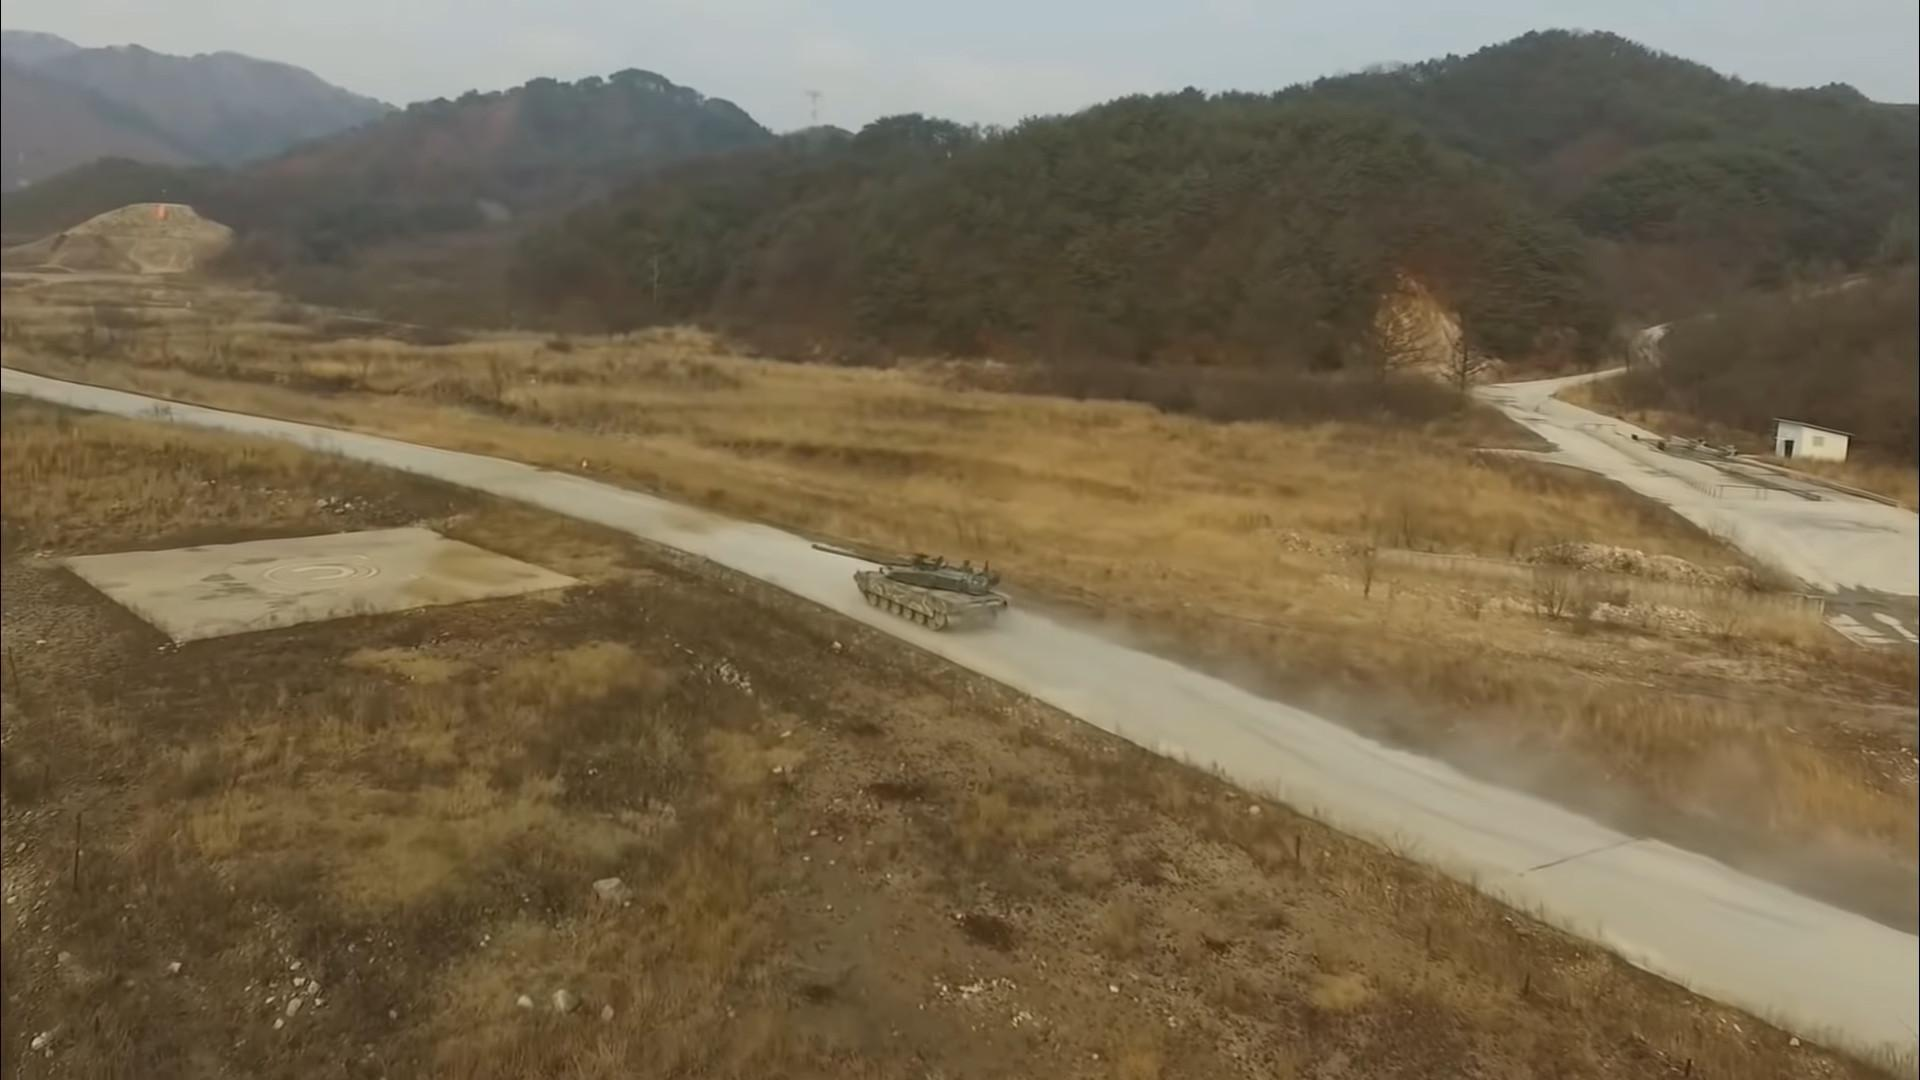tank: (811, 543, 1006, 633)
